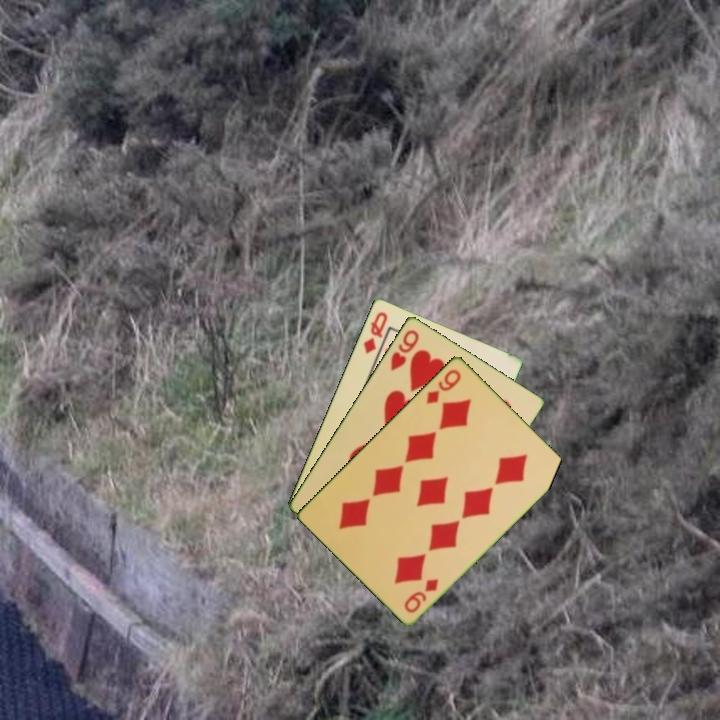9d: (423, 365, 464, 407), (400, 575, 441, 616)
9h: (387, 326, 422, 373)
Qd: (360, 308, 390, 357)
